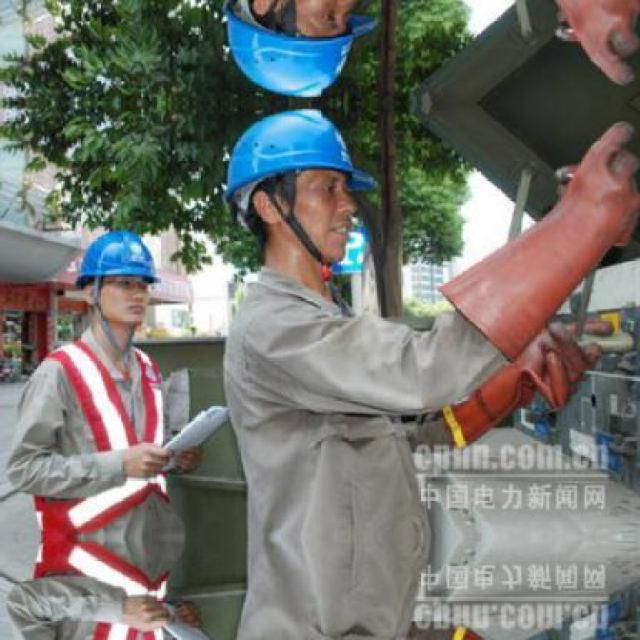helmet: (223, 103, 359, 199), (70, 224, 164, 294)
